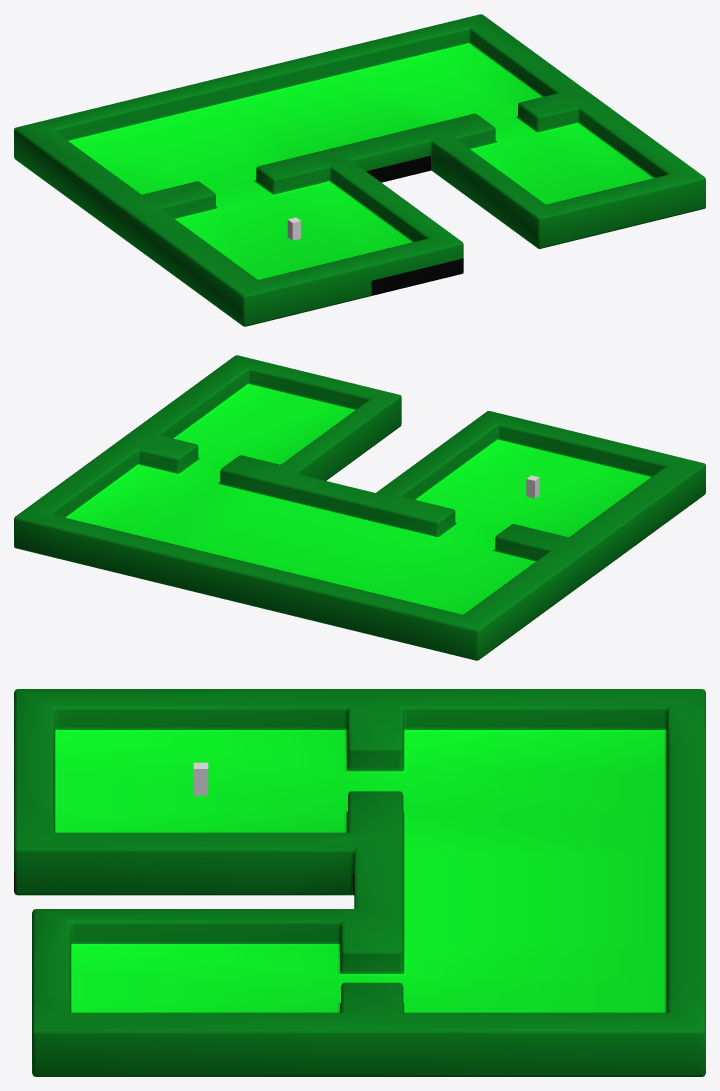
File: LEVEL01_ATTEMPT_B.glb
3 views of the same model, one above another, from view 1: azimuth 30°, elevation 25°; view 2: azimuth 150°, elevation 25°; view 3: azimuth 270°, elevation 25° (orthographic). The views are drawn at different scales.
Parts seen in each view (by area): view 1: LEVEL_01_ATTEMPT_B_; view 2: LEVEL_01_ATTEMPT_B_; view 3: LEVEL_01_ATTEMPT_B_.
Part boxes in pixels (x1=…): LEVEL_01_ATTEMPT_B_: x1=14, y1=14, x2=705, y2=326; LEVEL_01_ATTEMPT_B_: x1=14, y1=355, x2=705, y2=660; LEVEL_01_ATTEMPT_B_: x1=14, y1=689, x2=705, y2=1076.
Bounding box in the file's own units: 55.27 × 4 × 47.1.
